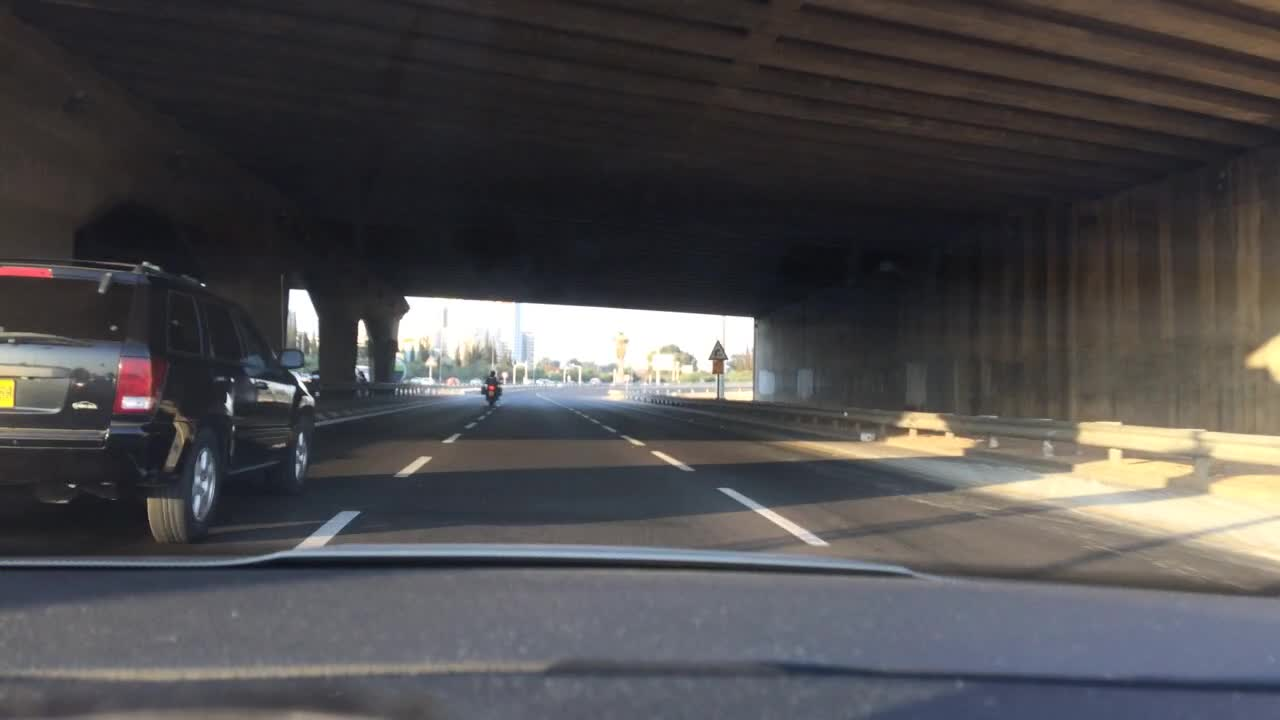car: (0, 251, 318, 540)
motor: (484, 382, 501, 400)
rider: (483, 363, 495, 386)
traffic sign: (711, 337, 725, 359), (421, 353, 438, 371), (711, 357, 724, 377)
